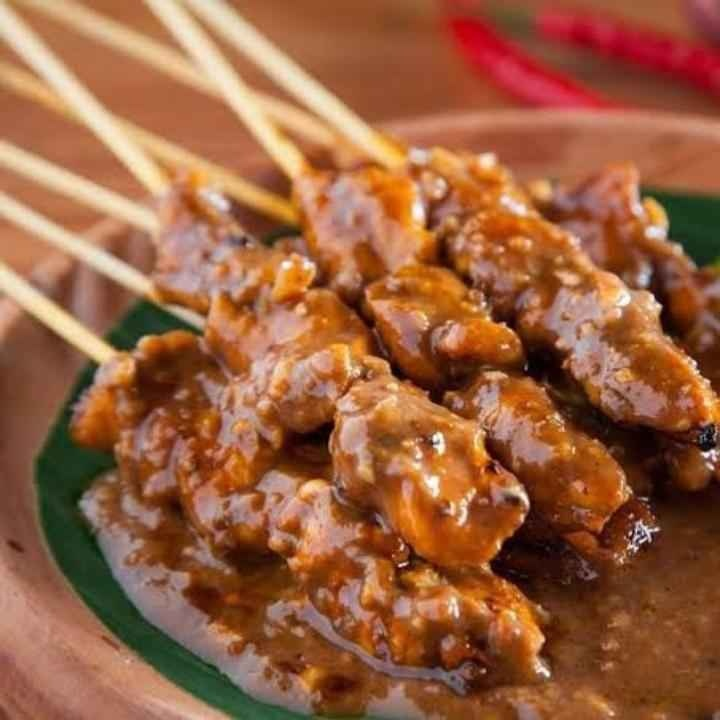sate_madura: (1, 4, 719, 682)
